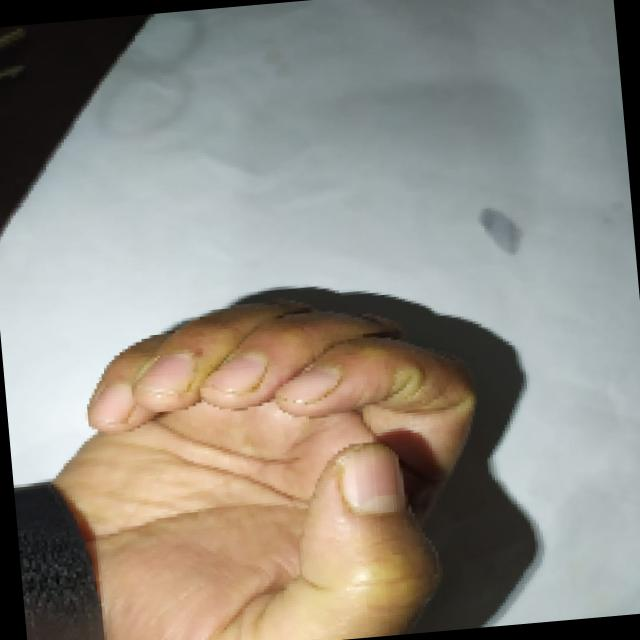Nail: (337, 443, 406, 514), (206, 353, 266, 394), (277, 367, 341, 404), (142, 354, 195, 393), (92, 383, 134, 422)
